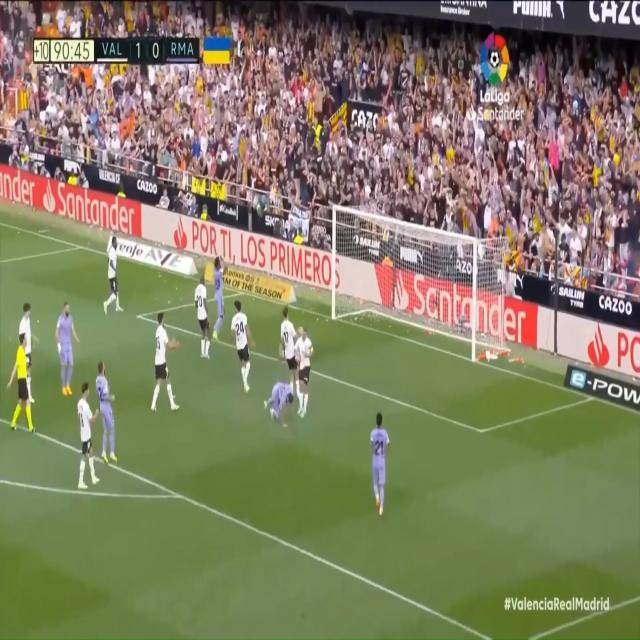player: (148, 307, 177, 415), (76, 379, 101, 491), (368, 409, 389, 515), (57, 301, 79, 396), (231, 301, 253, 395), (98, 357, 117, 465), (297, 314, 314, 421), (280, 304, 299, 396), (261, 380, 299, 425), (211, 255, 230, 344), (103, 236, 124, 313), (194, 277, 212, 363), (19, 297, 35, 380)
referee: (8, 332, 37, 435)
